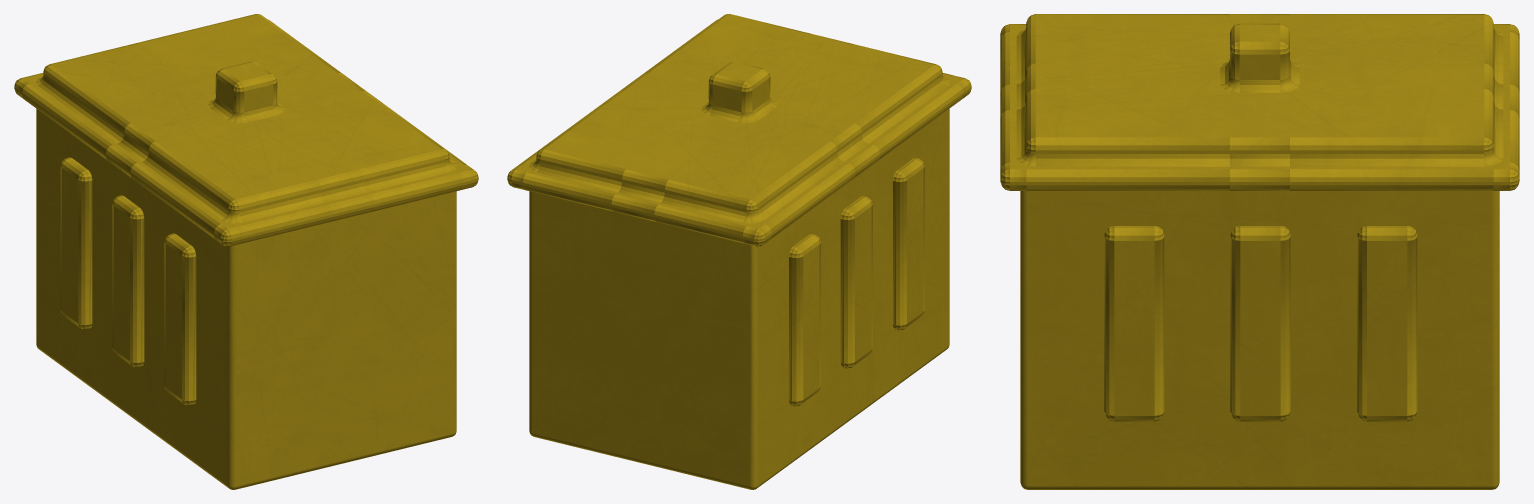
Rendered from Plastic_House_2.fbx.
3 views of the same model, side by side, from view 1: azimuth 30°, elevation 25°; view 2: azimuth 150°, elevation 25°; view 3: azimuth 270°, elevation 25° (orthographic). The views are drawn at different scales.
Parts seen in each view (by area): view 1: Plastic_House_2; view 2: Plastic_House_2; view 3: Plastic_House_2.
Part boxes in pixels (<box>): Plastic_House_2: <box>14,14,478,489</box>; Plastic_House_2: <box>507,14,971,489</box>; Plastic_House_2: <box>1000,14,1519,489</box>.
Size of the model in its own units: 2.28 by 2.73 by 3.28.
